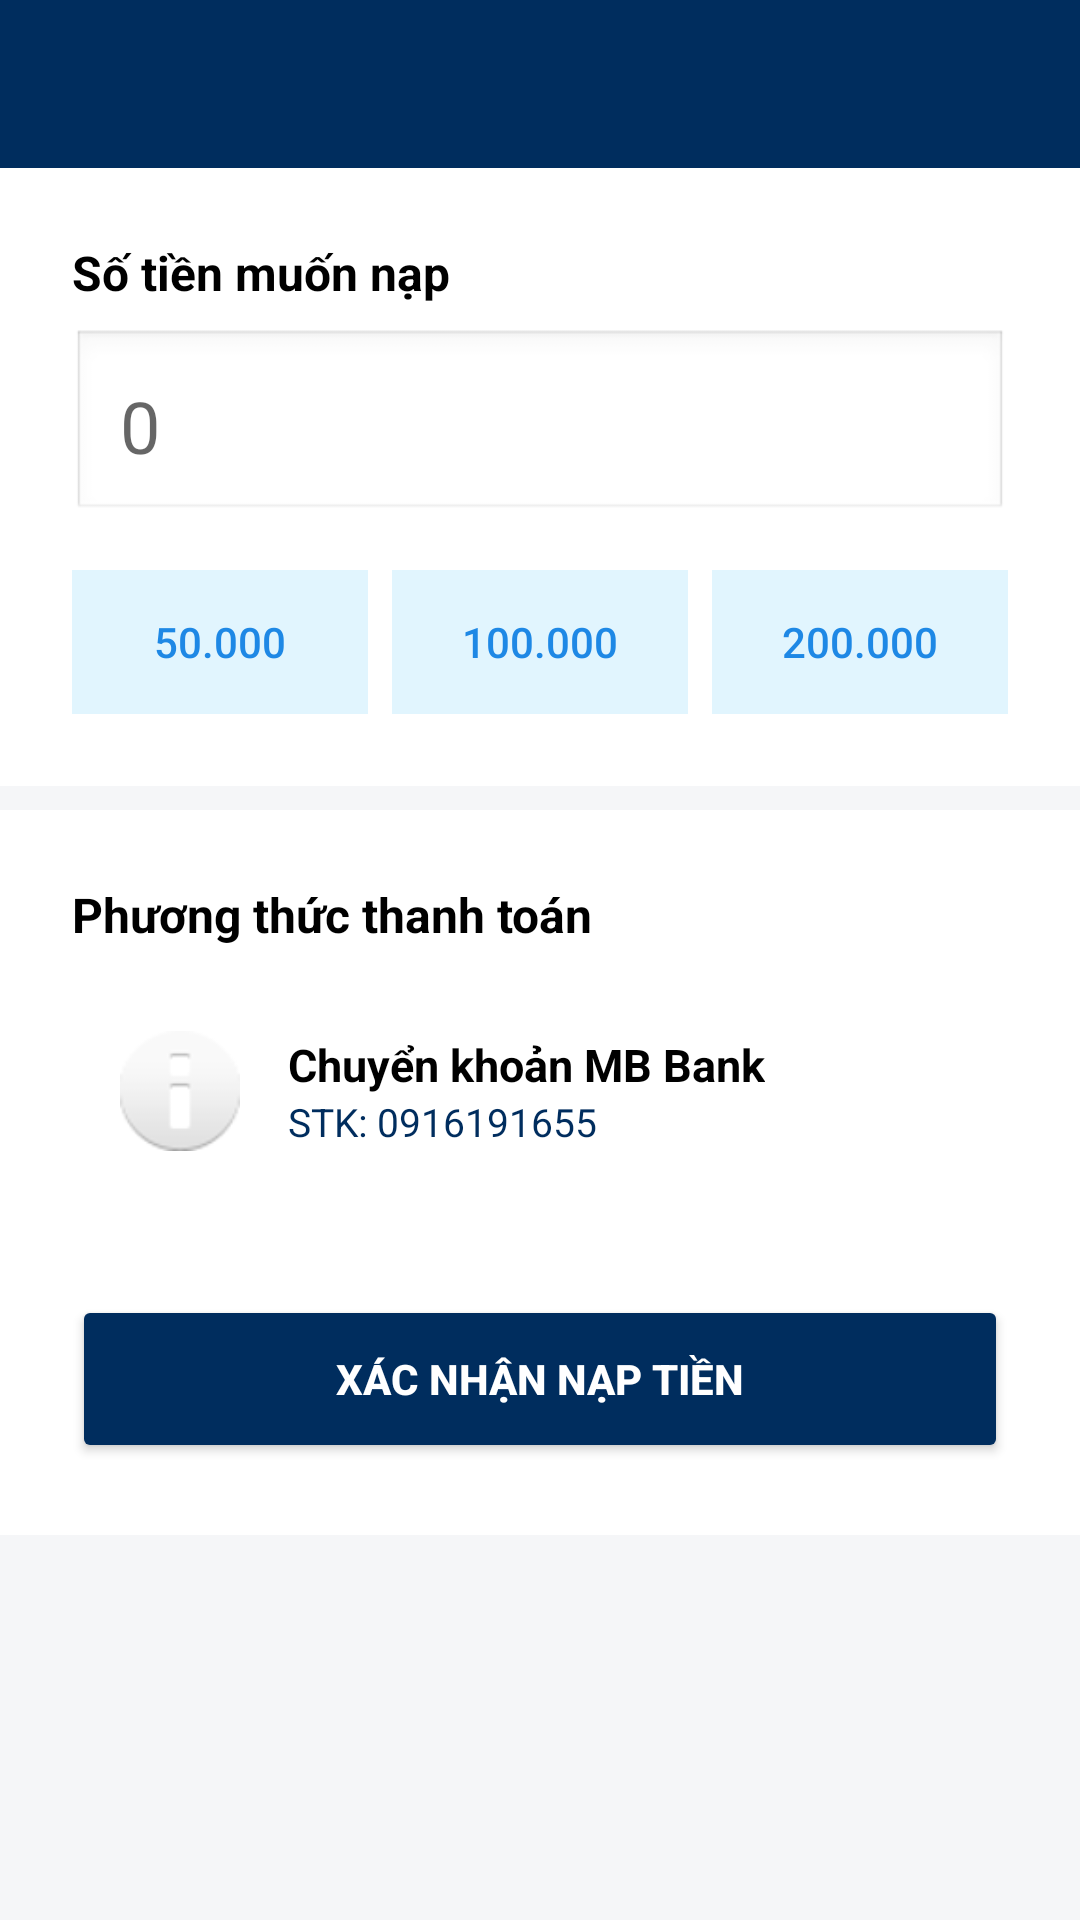

Screen size 1080 x 1920. Icon name, then its center in pixels as [x,y]:
info: [180,1102]
